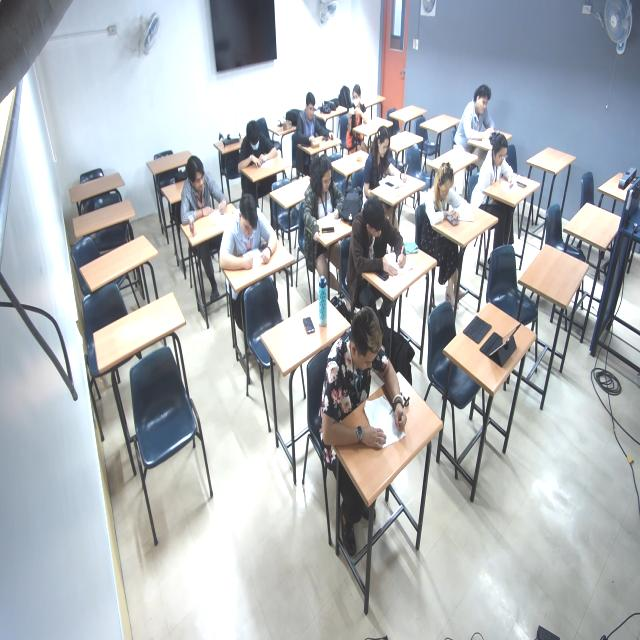read: (317, 311, 410, 462), (357, 202, 420, 283), (217, 193, 276, 279), (421, 162, 475, 236), (305, 164, 349, 252), (236, 116, 286, 191), (365, 126, 412, 201), (179, 157, 227, 227), (483, 137, 523, 201), (462, 87, 499, 149)
